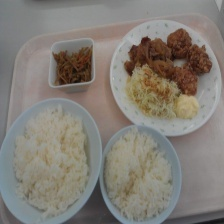rice: (105, 133, 175, 224)
